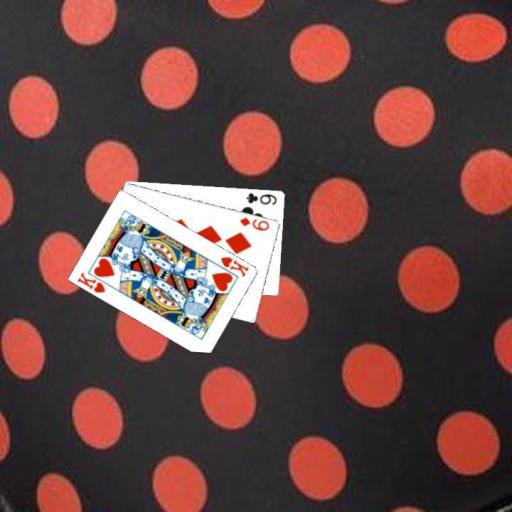6C: (244, 189, 279, 206)
9D: (237, 214, 271, 232)
KH: (218, 253, 250, 278), (75, 269, 107, 294)
